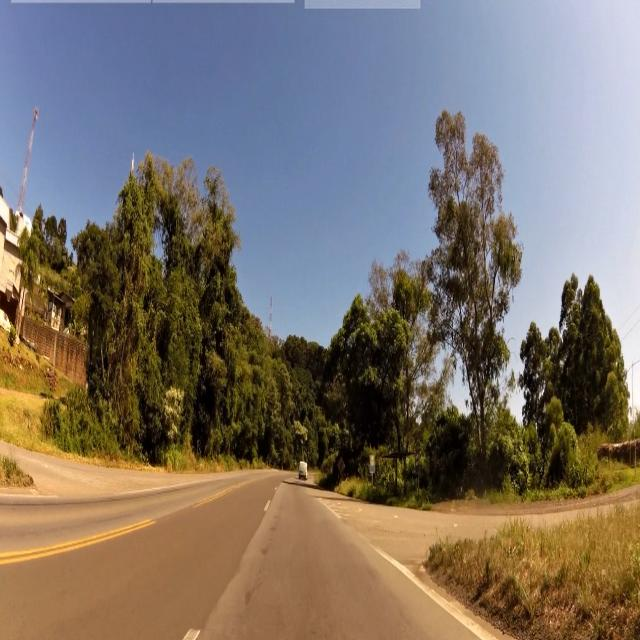S-14: (370, 455, 374, 472)
